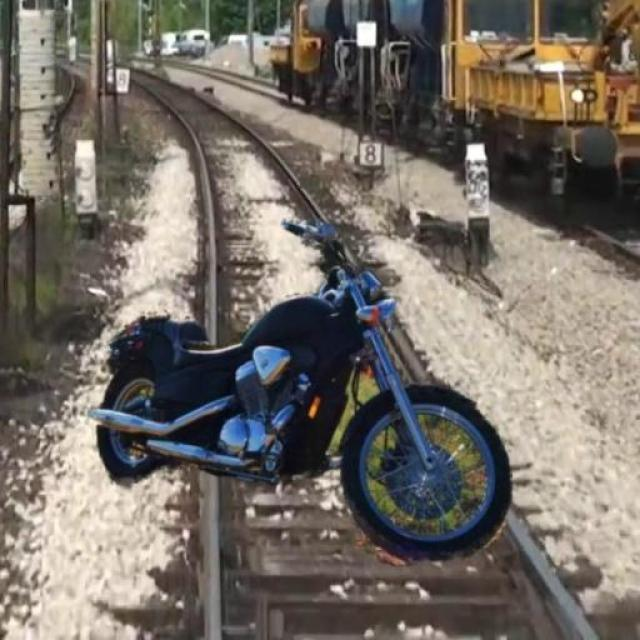vehicle: (92, 213, 524, 558)
